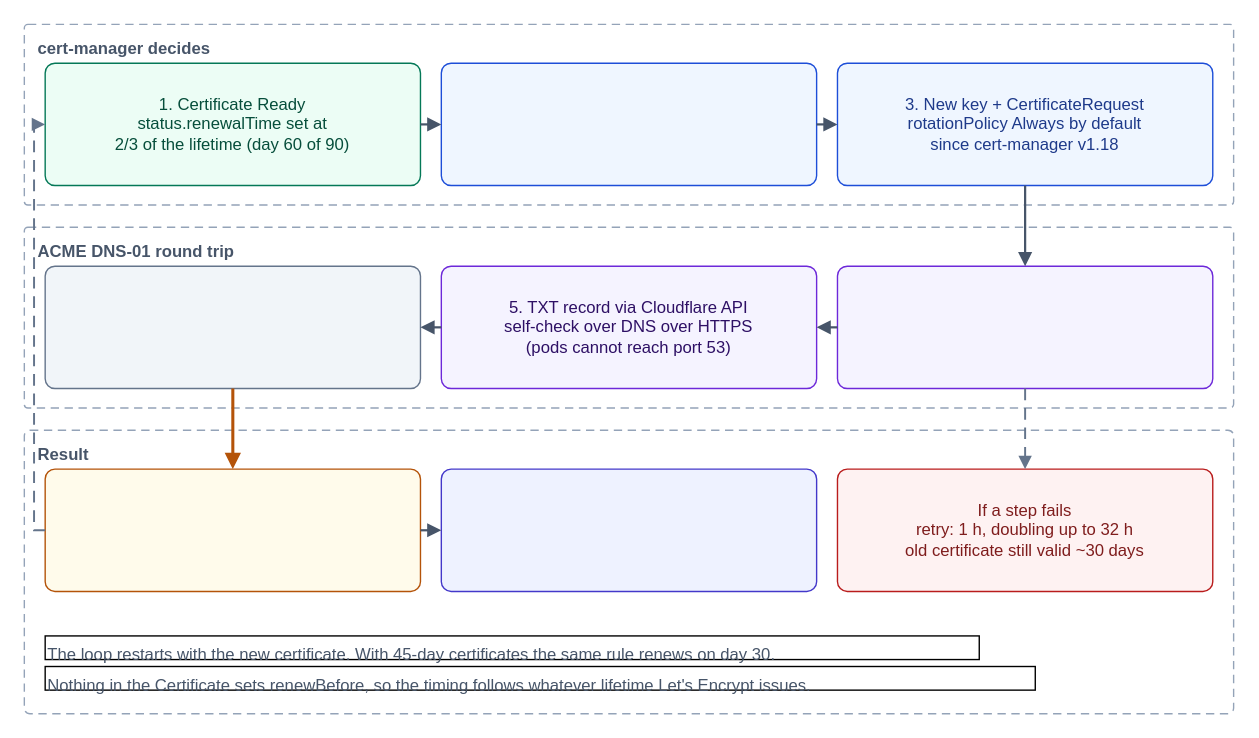
Image size: 1259x738. Some labels were removed from this diagram. Each missing label, with the centre of its shape:
"2. Renewal time passes condition Issuing = True no cron job, no human" goes at [628,124].
"4. Order + DNS-01 Challenge one authorization per name" goes at [1024,327].
"6. Let's Encrypt validates looks up the TXT record signs the certificate" goes at [232,327].
"7. Secret updated in place same name, new tls.crt + tls.key" goes at [232,529].
"8. Istio gateway reloads Envoy gets the Secret over SDS no pod restart" goes at [628,529].
